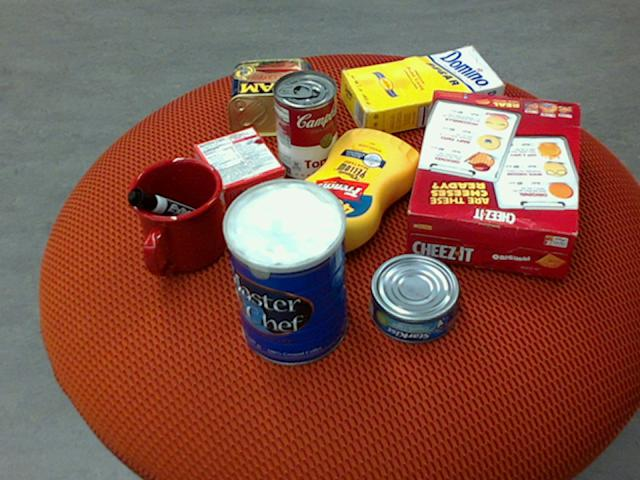cracker_box: (405, 88, 580, 276)
gelatin_box: (192, 125, 284, 208)
large_marker: (126, 188, 218, 233)
master_chef_can: (219, 180, 347, 366)
mug: (125, 157, 226, 276)
mustard_bottle: (283, 128, 421, 267)
potted_meat_can: (228, 57, 317, 136)
sugar_box: (339, 44, 505, 137)
tomato_soup_can: (273, 68, 337, 179)
tuna_fish_can: (370, 253, 461, 343)
